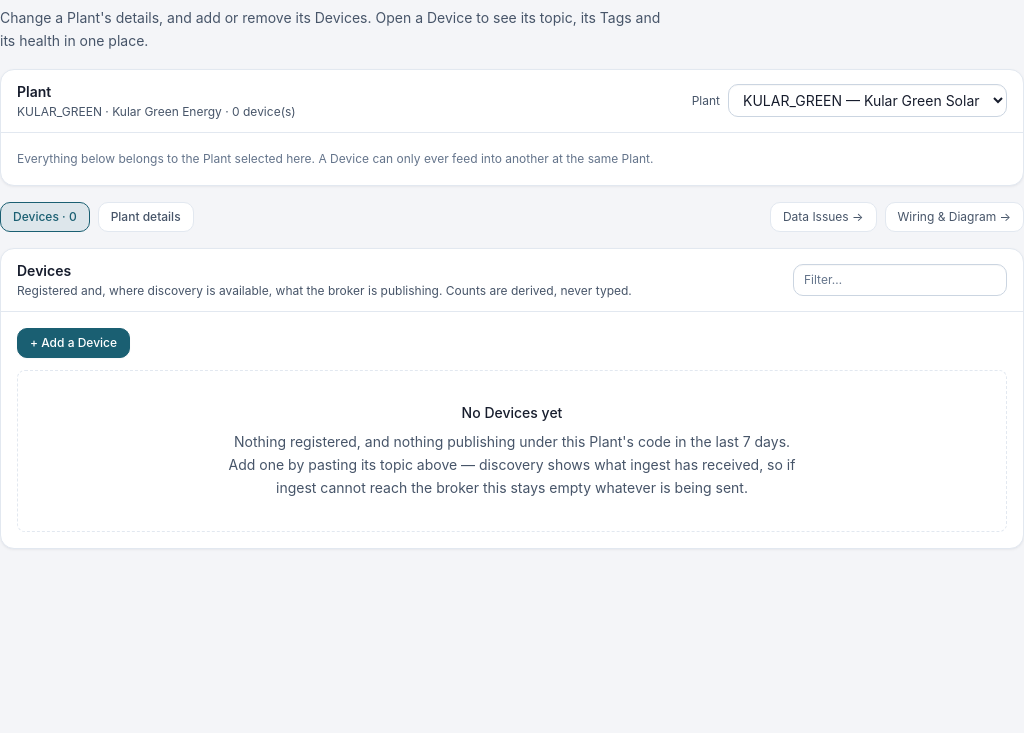
Test case: Plants: adding and editing are separate, findable jobs › makes every field of an existing Plant correctable, not just its name
The image size is (1024, 733).
Click the button "Plant details".
click(146, 216)  # box [98,202,194,232]
(page scrolled)
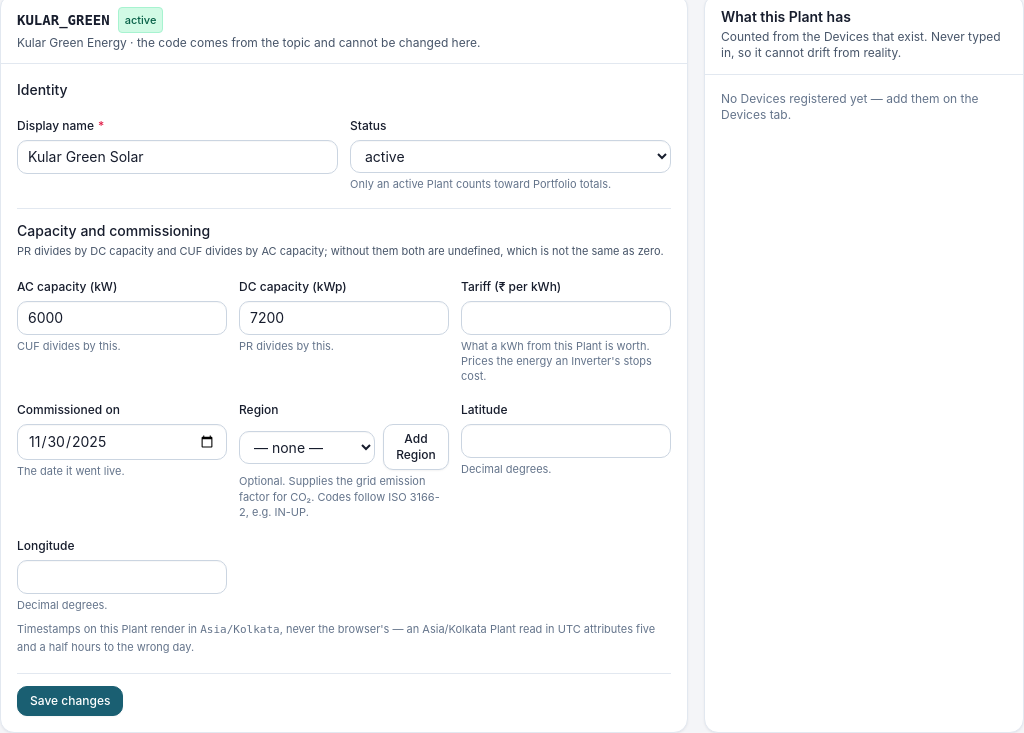
Check: the field labelled "Display name*" holds "Kular Green Solar", box [17,140,338,174]
Check: the number field labelled "AC capacity (kW) CUF divides by this." holds "6000", box [17,301,227,335]
Check: the number field labelled "DC capacity (kWp) PR divides by this." holds "7200", box [239,301,449,335]
